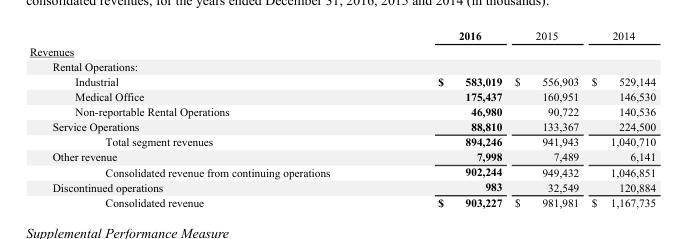table: (28, 29, 655, 208)
table column: (28, 29, 383, 208), (383, 29, 507, 208), (507, 29, 584, 208), (584, 29, 655, 208)
table column header: (28, 29, 655, 43)
table projected row header: (28, 43, 655, 58), (28, 58, 655, 73)
table row: (28, 148, 655, 164), (28, 43, 655, 58), (28, 58, 655, 73), (28, 73, 655, 88), (28, 88, 655, 103), (28, 103, 655, 118), (28, 118, 655, 133), (28, 133, 655, 148), (28, 164, 655, 179), (28, 179, 655, 194), (28, 29, 655, 43), (28, 194, 655, 208)
